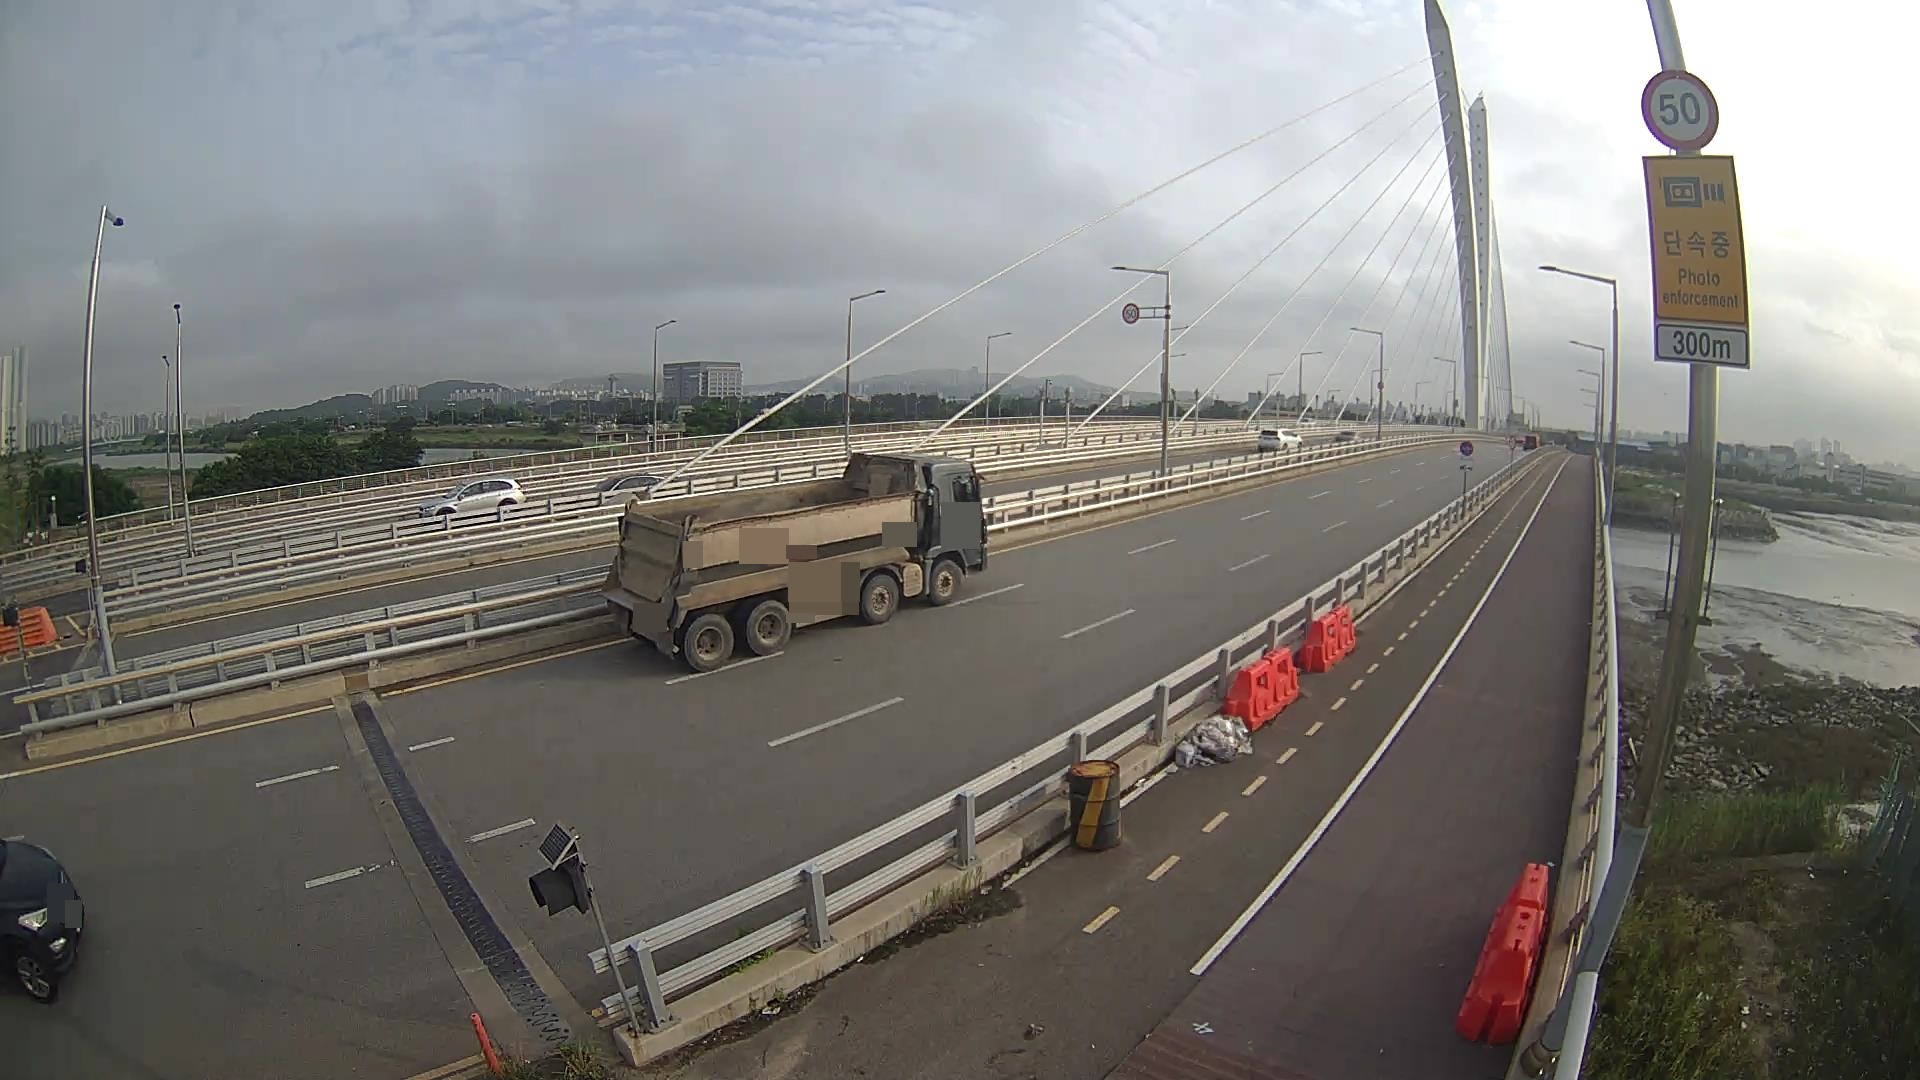정상차량: (593, 444, 986, 673)
